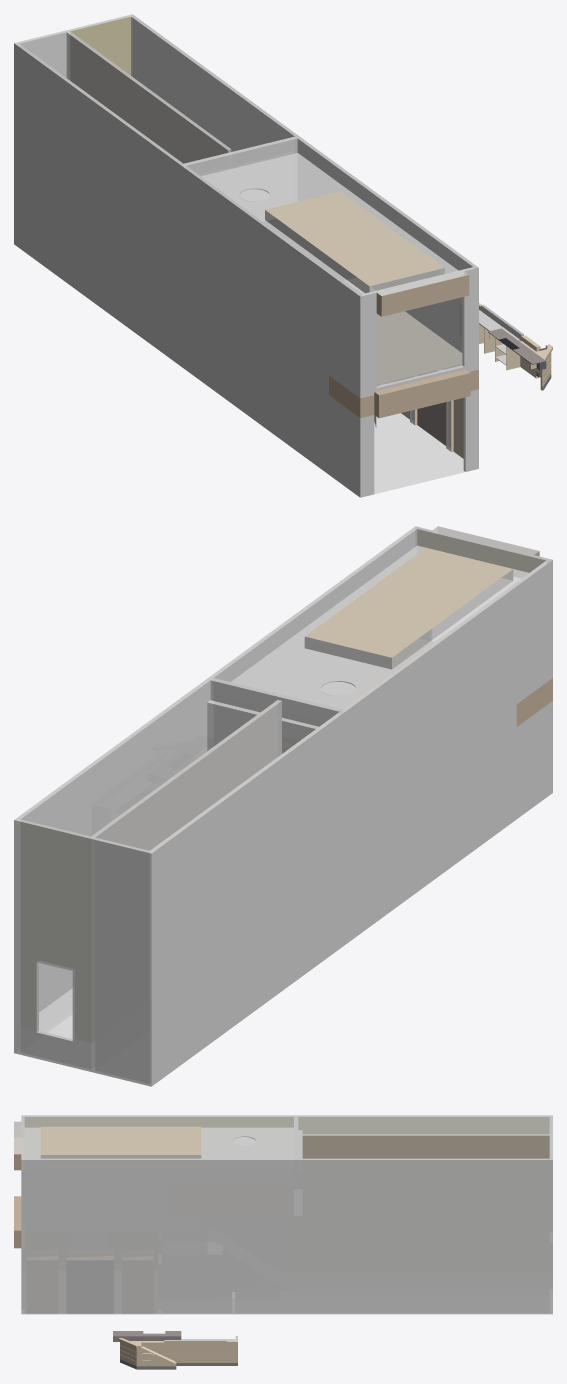
The model's file is building.glb.
The picture shows the model from 3 angles, top to bottom: view 1: azimuth 30°, elevation 25°; view 2: azimuth 150°, elevation 25°; view 3: azimuth 270°, elevation 25°; orthographic projection. The views are drawn at different scales.
Parts seen in each view (by area): view 1: Node472, Node264, Node445, Node557, Node299, Node270, Node556, Node548, Node304, Node598, Node547, Node471 (+18 smaller); view 2: Node472, Node263, Node264, Node271, Node268, Node445, Node557, Node299, Node270, Node556, Node548, Node304 (+17 smaller); view 3: Node264, Node445, Node471, Node548, Node276, Node299, Node481, Node557, Node491, Node443, Node551, Node556 (+17 smaller).
Boxes of the visible parts, left/top/right/bottom form: Node472: left=14, top=43, right=360, bottom=497; Node264: left=133, top=15, right=374, bottom=207; Node445: left=131, top=17, right=292, bottom=241; Node557: left=265, top=191, right=444, bottom=286; Node299: left=71, top=32, right=230, bottom=162; Node270: left=66, top=32, right=227, bottom=163; Node556: left=201, top=153, right=458, bottom=293; Node548: left=293, top=154, right=462, bottom=352; Node304: left=14, top=14, right=478, bottom=296; Node598: left=345, top=278, right=462, bottom=384; Node547: left=202, top=154, right=296, bottom=220; Node471: left=376, top=193, right=458, bottom=446; Node472: left=151, top=560, right=552, bottom=1086; Node263: left=14, top=820, right=151, bottom=1086; Node264: left=14, top=615, right=294, bottom=1051; Node271: left=96, top=838, right=148, bottom=1082; Node268: left=21, top=820, right=90, bottom=1042; Node445: left=21, top=683, right=207, bottom=1012; Node557: left=305, top=548, right=512, bottom=657; Node299: left=91, top=701, right=276, bottom=1042; Node270: left=95, top=701, right=281, bottom=850; Node556: left=231, top=545, right=528, bottom=709; Node548: left=232, top=547, right=416, bottom=704; Node304: left=14, top=526, right=552, bottom=853; Node264: left=180, top=1160, right=552, bottom=1314; Node445: left=303, top=1159, right=548, bottom=1294; Node471: left=51, top=1160, right=180, bottom=1314; Node548: left=25, top=1170, right=301, bottom=1294; Node276: left=236, top=1261, right=548, bottom=1312; Node299: left=302, top=1135, right=549, bottom=1158; Node481: left=21, top=1160, right=51, bottom=1314; Node557: left=40, top=1126, right=201, bottom=1154; Node491: left=298, top=1117, right=549, bottom=1134; Node443: left=162, top=1251, right=231, bottom=1312; Node551: left=25, top=1128, right=293, bottom=1157; Node556: left=24, top=1127, right=293, bottom=1158.
Size of the model in its own units: 386 by 278 by 879.
